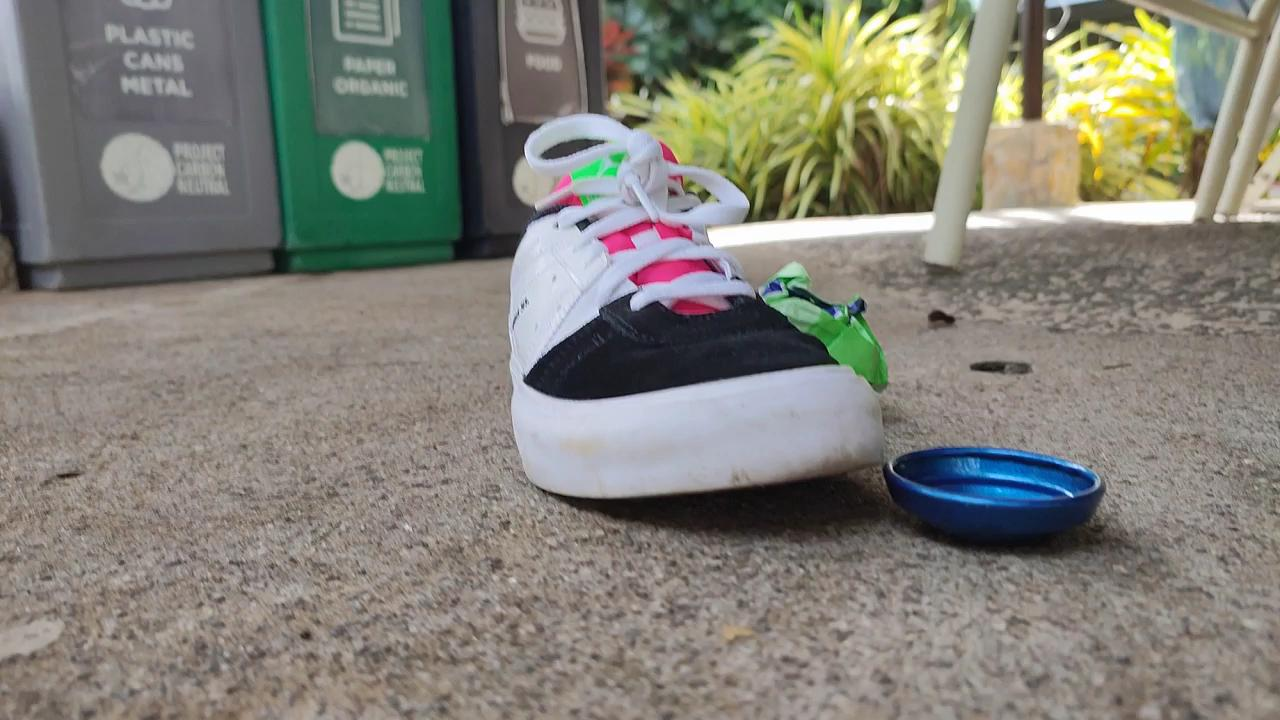Paper: (746, 237, 900, 400)
